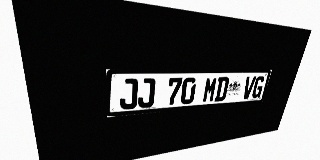0: (180, 77, 197, 105)
7: (165, 78, 183, 106)
D: (214, 77, 230, 102)
G: (251, 76, 266, 98)
J: (120, 78, 138, 110), (137, 78, 156, 108)
M: (202, 77, 218, 103)
V: (241, 76, 256, 99)
